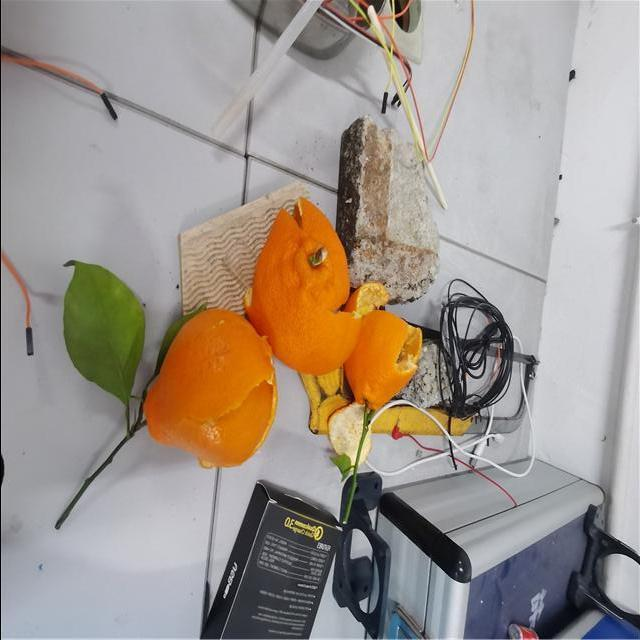orange peel: (139, 307, 275, 469), (250, 196, 364, 377), (335, 297, 420, 409)
